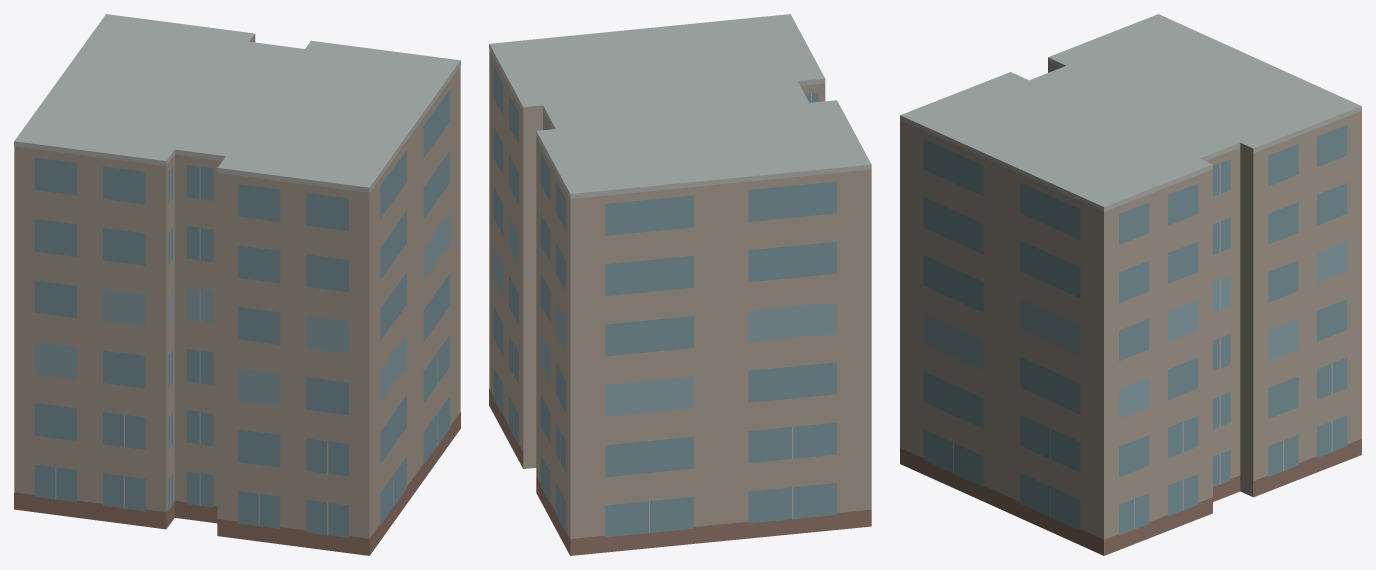
File: survey-upis-32838840.glb
The picture shows the model from 3 angles, left to right: view 1: azimuth 30°, elevation 25°; view 2: azimuth 150°, elevation 25°; view 3: azimuth 270°, elevation 25°; orthographic projection. The views are drawn at different scales.
Visible parts, largest first — view 1: survey-upis-32838840.tmp; view 2: survey-upis-32838840.tmp; view 3: survey-upis-32838840.tmp.
Boxes of the visible parts, x1=… form: survey-upis-32838840.tmp: x1=14, y1=14, x2=460, y2=555; survey-upis-32838840.tmp: x1=489, y1=14, x2=871, y2=555; survey-upis-32838840.tmp: x1=900, y1=14, x2=1361, y2=555.
Bounding box in the file's own units: 21.27 × 17.9 × 21.49.
